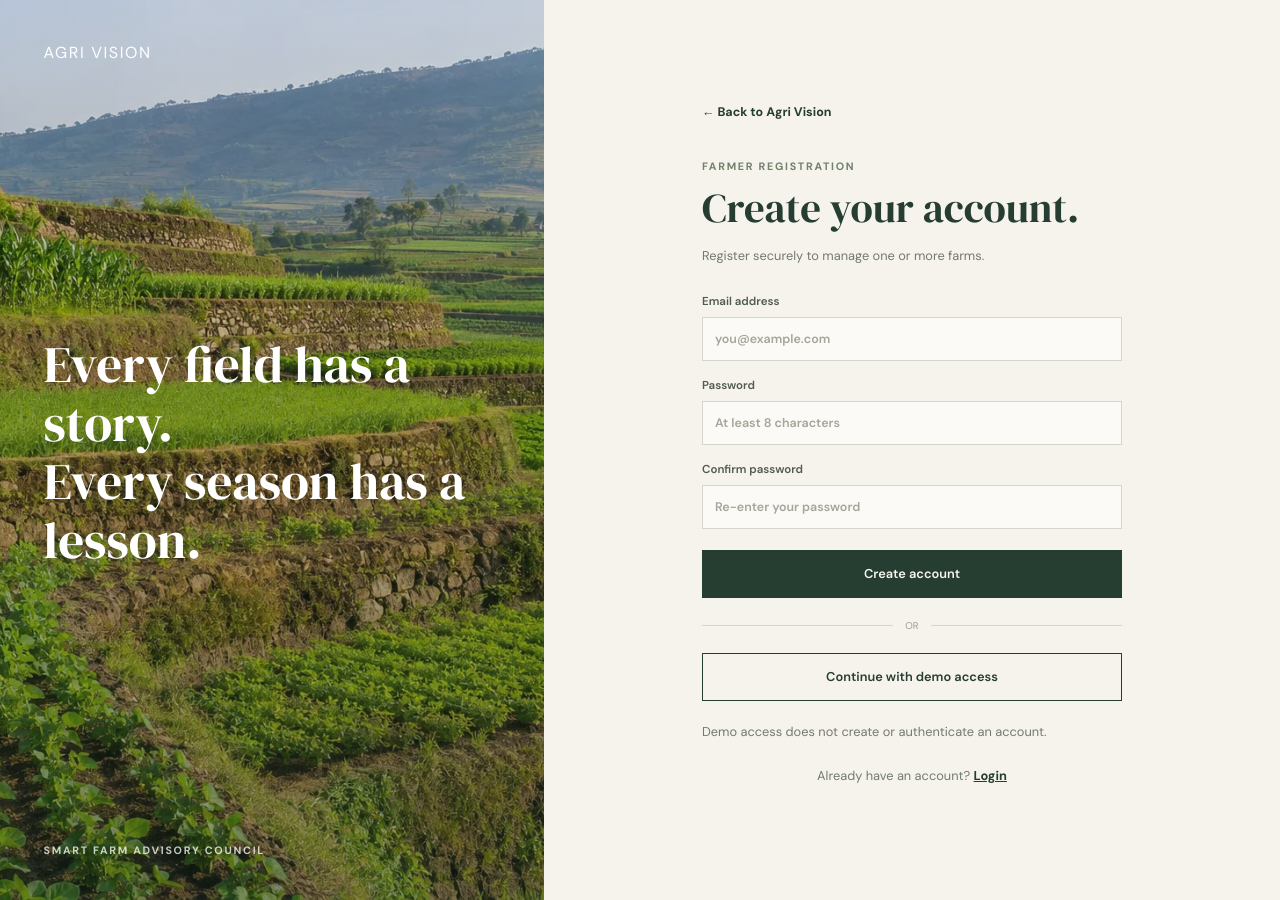
Test: Demo access and account registration UI › validates missing registration fields without sending passwords
Click the button "Create account": (912,574) x1=702 y1=550 x2=1122 y2=598
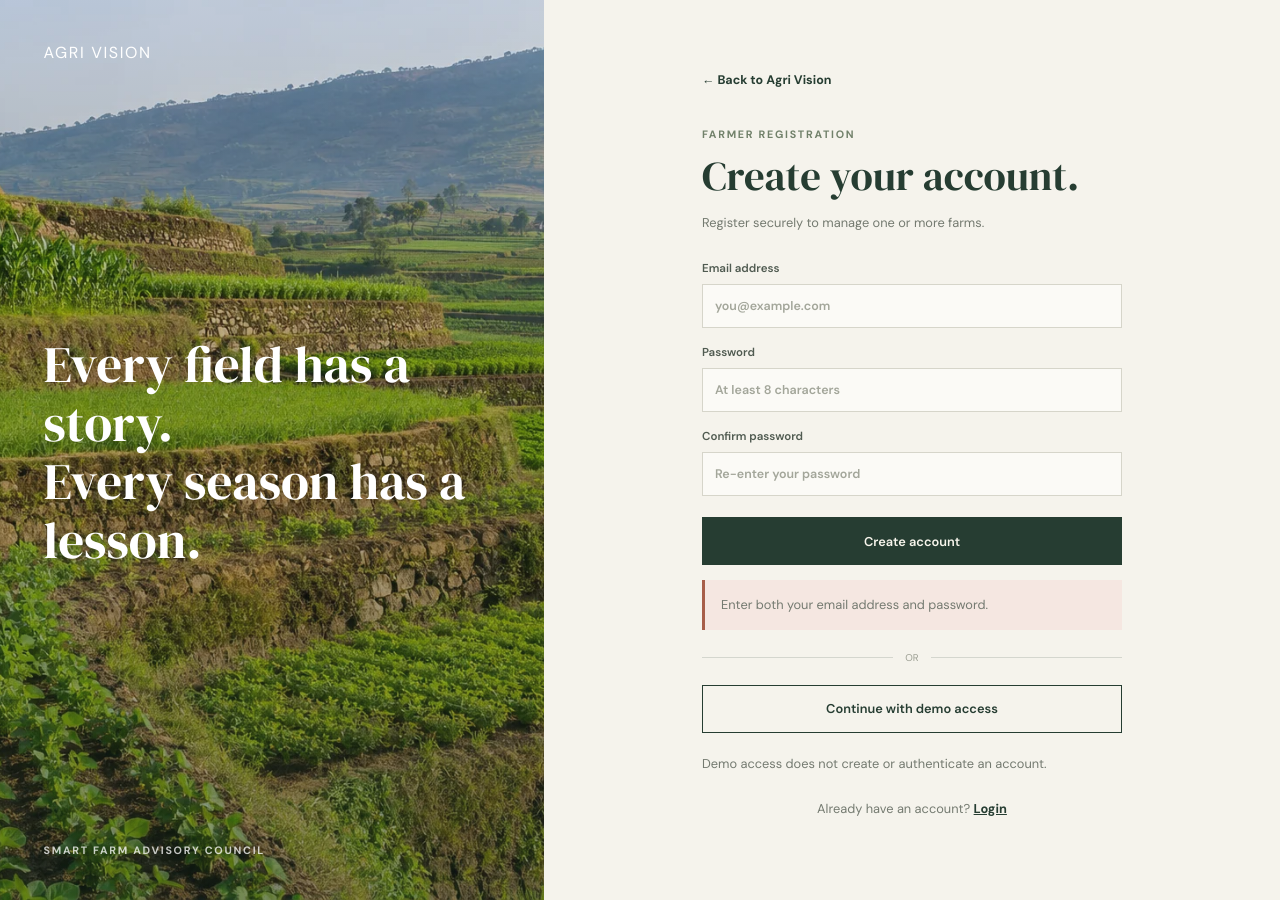
Now the message reads "Enter both your email address and password.", box x1=721 y1=596 x2=988 y2=613
